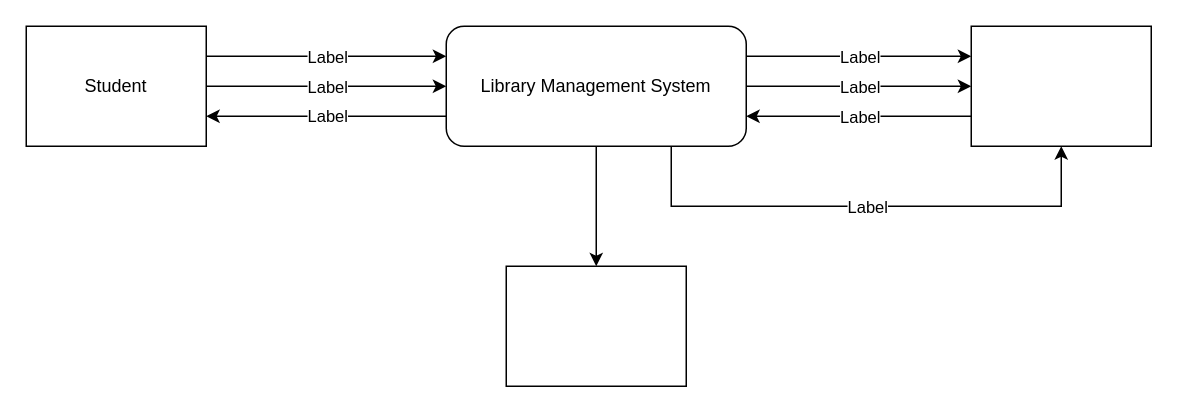
This 1178x413 diagram has some shape labels left out. The centre of each missing label's shape, as x and y in pixels:
"Librarian" goes at (x=595, y=325).
"Library" goes at (x=1060, y=85).
